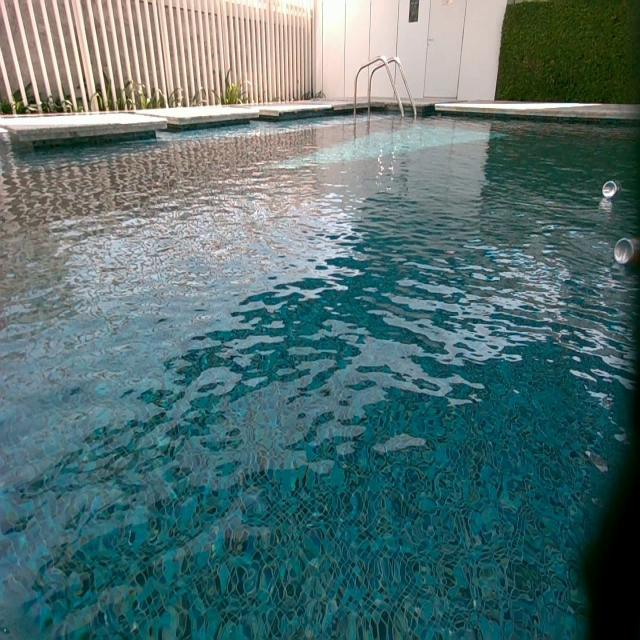Cans: (615, 238, 639, 266), (602, 180, 622, 200)
